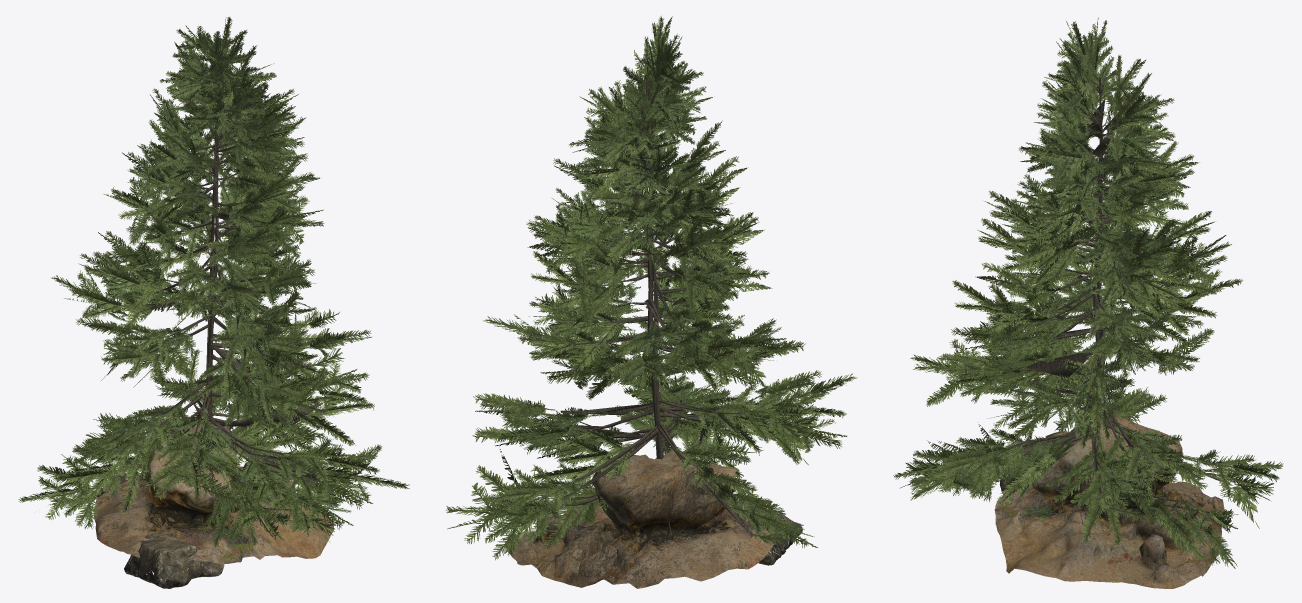
The model's file is alpine-nature.glb.
The picture shows the model from 3 angles, left to right: view 1: azimuth 30°, elevation 25°; view 2: azimuth 150°, elevation 25°; view 3: azimuth 270°, elevation 25°; orthographic projection.
Visible parts, largest first — view 1: SpruceB_Needles, SpruceA_Needles, SpruceA_Low_Needles, SpruceB_Low_Needles, LimestoneOutcrop_Stone, LimestoneOutcrop_MossFoot, SpruceB_Low_Bark, SpruceA_Low_Bark, SpruceA_Bark, SpruceB_Bark; view 2: SpruceB_Needles, SpruceA_Needles, SpruceB_Low_Needles, LimestoneOutcrop_Stone, SpruceA_Low_Needles, SpruceB_Bark, SpruceB_Low_Bark, SpruceA_Low_Bark, SpruceA_Bark, LimestoneOutcrop_MossFoot; view 3: SpruceB_Needles, SpruceA_Needles, SpruceB_Low_Needles, LimestoneOutcrop_Stone, SpruceA_Low_Needles, SpruceB_Low_Bark, SpruceA_Low_Bark, SpruceB_Bark, SpruceA_Bark.
Part boxes in pixels (left/top/right/bottom): SpruceB_Needles: left=18, top=30, right=409, bottom=546; SpruceA_Needles: left=55, top=17, right=379, bottom=529; SpruceA_Low_Needles: left=54, top=19, right=378, bottom=525; SpruceB_Low_Needles: left=20, top=44, right=409, bottom=547; LimestoneOutcrop_Stone: left=94, top=417, right=334, bottom=563; LimestoneOutcrop_MossFoot: left=124, top=532, right=224, bottom=588; SpruceB_Low_Bark: left=89, top=101, right=322, bottom=509; SpruceA_Low_Bark: left=146, top=96, right=292, bottom=489; SpruceA_Bark: left=145, top=74, right=291, bottom=510; SpruceB_Bark: left=96, top=88, right=322, bottom=522; SpruceB_Needles: left=445, top=36, right=857, bottom=560; SpruceA_Needles: left=473, top=16, right=822, bottom=542; SpruceB_Low_Needles: left=446, top=50, right=852, bottom=557; LimestoneOutcrop_Stone: left=508, top=448, right=775, bottom=588; SpruceA_Low_Needles: left=475, top=16, right=817, bottom=541; SpruceB_Bark: left=534, top=106, right=764, bottom=535; SpruceB_Low_Bark: left=531, top=106, right=768, bottom=537; SpruceA_Low_Bark: left=547, top=80, right=741, bottom=507; SpruceA_Bark: left=546, top=79, right=748, bottom=499; LimestoneOutcrop_MossFoot: left=734, top=507, right=802, bottom=565; SpruceB_Needles: left=905, top=51, right=1274, bottom=566; SpruceA_Needles: left=893, top=20, right=1282, bottom=546; SpruceB_Low_Needles: left=905, top=51, right=1271, bottom=568; LimestoneOutcrop_Stone: left=994, top=416, right=1224, bottom=588; SpruceA_Low_Needles: left=895, top=17, right=1283, bottom=547; SpruceB_Low_Bark: left=1009, top=105, right=1230, bottom=512; SpruceA_Low_Bark: left=1000, top=77, right=1194, bottom=501; SpruceB_Bark: left=1001, top=103, right=1222, bottom=538; SpruceA_Bark: left=1004, top=75, right=1199, bottom=523.
Bounding box in the file's own units: 4.86 × 7 × 4.8.
Materials: 4 (4 with a texture image).
